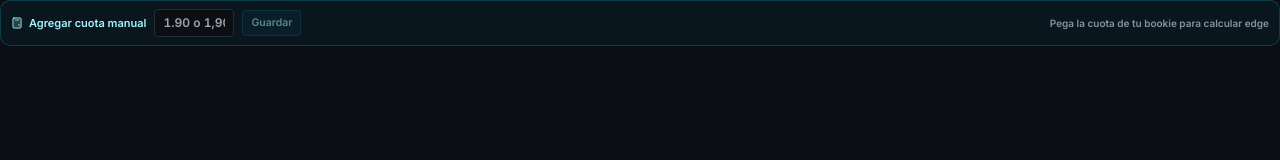
it: manual_odds_repriced_updates_card_badge
Step 1. Type "1.92" into the field with test id "inline-manual-odds-input-field" → (194, 23), box [154,9,234,37]
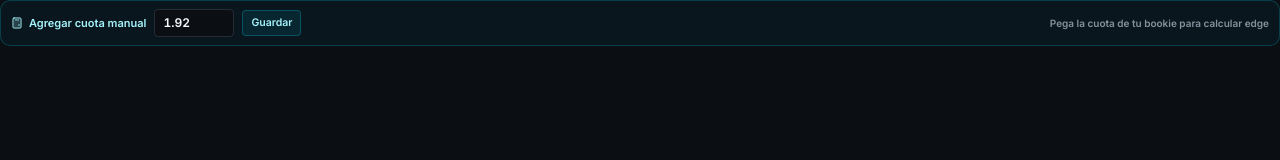
Step 2. Click the button with test id "inline-manual-odds-input-submit" → (272, 23), box [242,10,301,36]
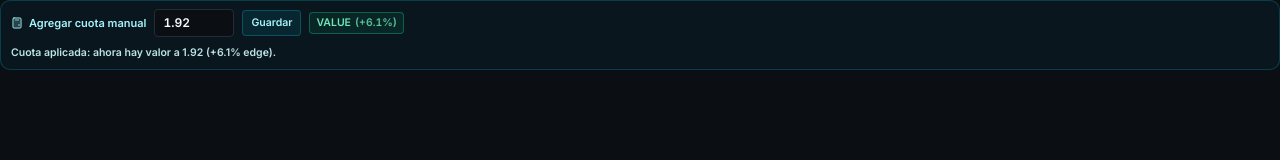
Now the element with test id "inline-manual-odds-input-decision" shows "VALUE", box [316,16,351,29]
Now the element with test id "inline-manual-odds-input-decision" shows "+6.1%", box [310,12,404,34]
Now the text with test id "inline-manual-odds-input-reprice-msg" shows "hay valor a 1.92", box [11,46,276,59]
